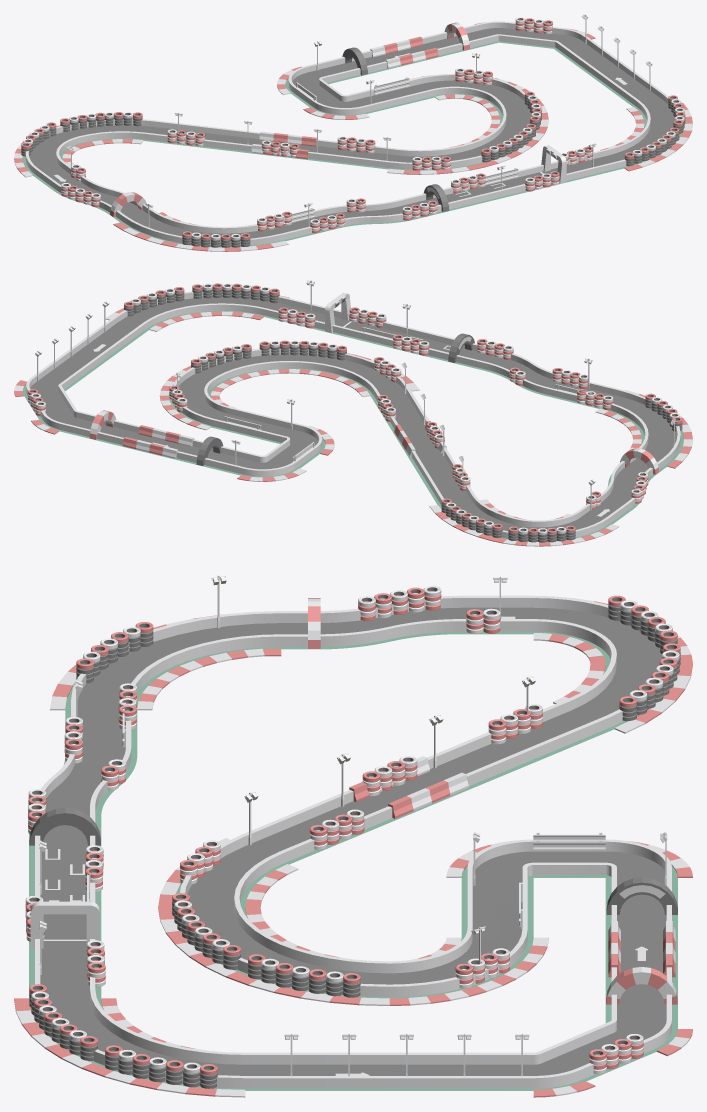
File: track_decorated_2.dae
3 renders of one model, top to bottom at view 1: azimuth 30°, elevation 25°; view 2: azimuth 150°, elevation 25°; view 3: azimuth 270°, elevation 25°, orthographic. The views are drawn at different scales.
Parts seen in each view (by area): view 1: Track, Walls, Tires, Arches, Light_Posts; view 2: Track, Walls, Tires, Arches, Light_Posts; view 3: Track, Walls, Tires, Arches, Light_Posts.
Boxes of the visible parts, x1,y1,x2,y2 form: Track: (14, 22, 692, 251); Walls: (25, 21, 668, 246); Tires: (21, 17, 685, 247); Arches: (110, 22, 566, 223); Light_Posts: (67, 14, 652, 227); Track: (14, 292, 692, 546); Walls: (26, 291, 680, 537); Tires: (28, 283, 682, 542); Arches: (89, 292, 659, 474); Light_Posts: (35, 280, 675, 510); Track: (14, 598, 692, 1097); Walls: (35, 595, 671, 1087); Tires: (25, 585, 680, 1088); Arches: (29, 598, 677, 1004); Light_Posts: (39, 575, 667, 1076).
Bounding box in the file's own units: 32.84 × 18.84 × 1.62.
